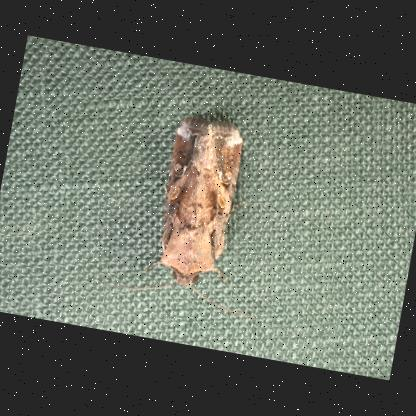Fall Armyworm Moth: (99, 102, 293, 322)
